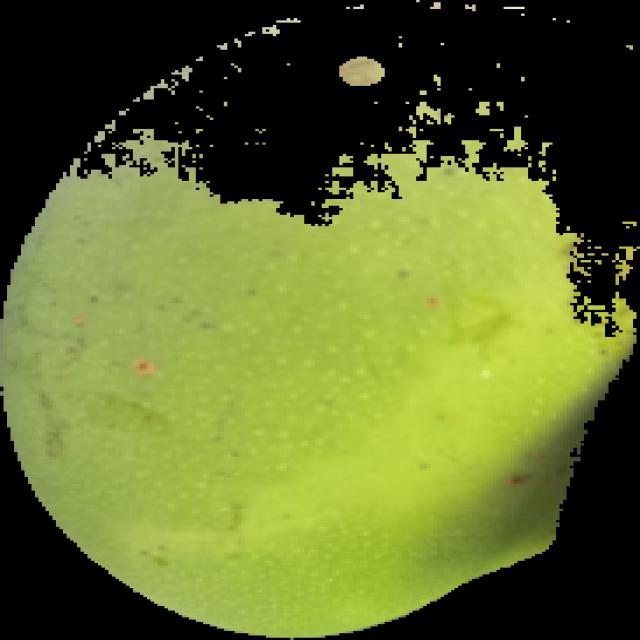Mango-sano: (0, 129, 636, 639)
